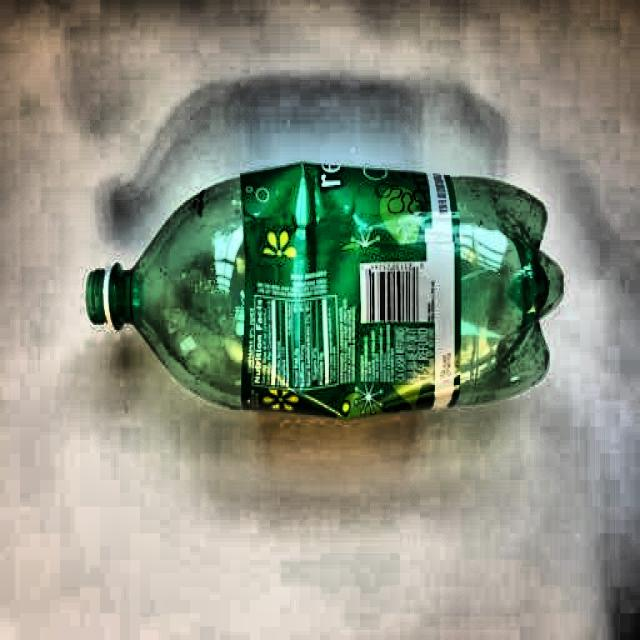plastic: (80, 161, 561, 419)
